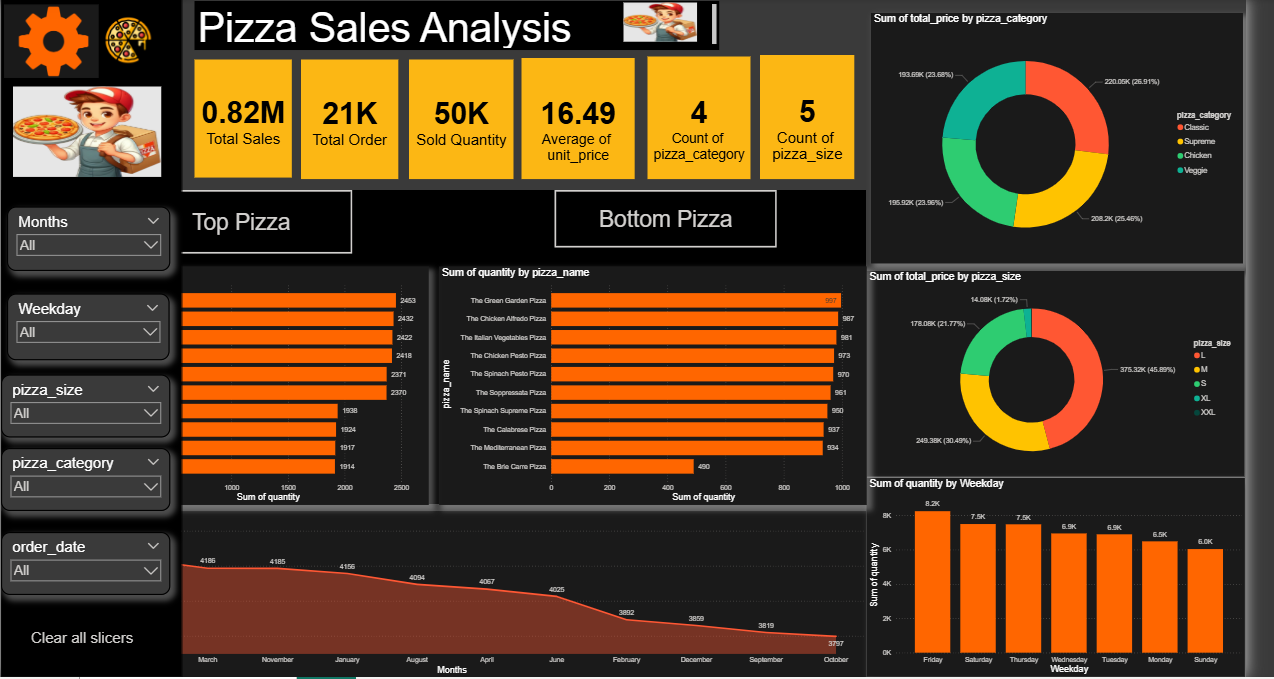

This screenshot's page, from the dashboard's own definition file:
{"tool":"powerbi","page":{"name":"Pizza Sales Analysis ","canvas":[2200,1200],"ordinal":0},"visuals":[{"type":"shape","box":[0,0,320.6,1200],"z":0,"group":"g3"},{"type":"donutChart","fields":{"Category":["pizza_sales.pizza_category"],"Y":["Sum(pizza_sales.total_price)"]},"box":[1538.5,27,657.5,442.7],"z":0,"group":"g1"},{"type":"barChart","fields":{"Category":["pizza_sales.pizza_name"],"Y":["Sum(pizza_sales.quantity)"]},"box":[773.2,473.8,755.9,421.3],"z":0,"group":"g2"},{"type":"areaChart","fields":{"Category":["pizza_sales.Months"],"Y":["CountNonNull(pizza_sales.Weekday)"]},"box":[0,906.6,1529.6,294.3],"z":0},{"type":"group","id":"g1","title":"Group 1","box":[1529.6,27,669,1172.6],"z":1000},{"type":"card","fields":{"Values":["pizza_sales.Total Sales"]},"box":[342,108.6,171.8,208.8],"z":1000,"group":"g4"},{"type":"barChart","fields":{"Category":["pizza_sales.pizza_name"],"Y":["Sum(pizza_sales.quantity)"]},"box":[0,473.8,755.9,421.3],"z":1000,"group":"g2"},{"type":"donutChart","fields":{"Y":["Sum(pizza_sales.total_price)"],"Category":["pizza_sales.pizza_size"]},"box":[1530.6,483,668.1,363.2],"z":1000,"group":"g1"},{"type":"actionButton","box":[3.2,1089.9,281.3,83.1],"z":1000,"group":"g3"},{"type":"group","id":"g2","title":"Group 4","box":[0,339.3,1529.6,554.1],"z":2000},{"type":"actionButton","box":[228.3,339.3,392.9,112.5],"z":2000,"group":"g2"},{"type":"slicer","fields":{"Values":["pizza_sales.Months"]},"box":[10.6,368.5,289,114],"z":2000,"group":"g3"},{"type":"columnChart","fields":{"Category":["pizza_sales.Weekday"],"Y":["Sum(pizza_sales.quantity)"]},"box":[1529.6,848.3,668.5,351.4],"z":2000,"group":"g1"},{"type":"image","title":"show","box":[0,3.2,177.7,151.9],"z":3000},{"type":"card","fields":{"Values":["pizza_sales.Total Order"]},"box":[529.5,108.6,171.8,211.4],"z":3000,"group":"g4"},{"type":"actionButton","box":[978.6,339.3,392.9,101.7],"z":3000,"group":"g2"},{"type":"slicer","fields":{"Values":["pizza_sales.order_date"]},"box":[0,943.8,299.6,111.3],"z":3000,"group":"g3"},{"type":"group","id":"g3","title":"Group 5","box":[0,0,320.6,1200],"z":4000},{"type":"card","fields":{"Values":["Avg(pizza_sales.unit_price)"]},"box":[920.5,106.7,199.8,214.1],"z":4000,"group":"g4"},{"type":"slicer","fields":{"Values":["pizza_sales.pizza_category"]},"box":[0,795.3,299.6,111.3],"z":4000,"group":"g3"},{"type":"actionButton","box":[159.9,0,131.5,149.3],"z":5000},{"type":"card","fields":{"Values":["pizza_sales.Sold Quantity"]},"box":[720.6,109.3,184.8,211.4],"z":5000,"group":"g4"},{"type":"slicer","fields":{"Values":["pizza_sales.pizza_size"]},"box":[0,665.4,299.6,111.3],"z":5000,"group":"g3"},{"type":"actionButton","box":[22.4,156.6,262.1,159.8],"z":5500,"group":"g3"},{"type":"textbox","box":[342.4,4.3,927.4,86.7],"z":6000},{"type":"slicer","fields":{"Values":["pizza_sales.Weekday"]},"box":[9.6,521,287.7,118.3],"z":6000,"group":"g3"},{"type":"image","title":"Hide","box":[0,0,177.6,152.2],"z":7000,"group":"g3"},{"type":"actionButton","box":[1100.7,8.7,130,69.3],"z":7000},{"type":"card","fields":{"Values":["Count(pizza_sales.pizza_category)"]},"box":[1141.3,103.3,182.3,216.7],"z":7000,"group":"g4"},{"type":"group","id":"g4","title":"Group 2","box":[342,100.7,1166.4,220],"z":8000},{"type":"card","fields":{"Values":["Count(pizza_sales.pizza_size)"]},"box":[1341.8,100.7,166.6,219.3],"z":9000,"group":"g4"}]}

Visuals, with their boxes in screenshot pixels (x1, y1, x2, y2), scaled from the page's 2200x1200 canvas onto the 1274x679 screenshot:
shape: 0:0:186:678
donutChart - pizza_sales.pizza_category x Sum(pizza_sales.total_price): 891:15:1272:266
barChart - pizza_sales.pizza_name x Sum(pizza_sales.quantity): 448:268:885:506
areaChart - pizza_sales.Months x CountNonNull(pizza_sales.Weekday): 0:513:886:678
"Group 1" group: 886:15:1273:678
card - pizza_sales.Total Sales: 198:61:298:180
barChart - pizza_sales.pizza_name x Sum(pizza_sales.quantity): 0:268:438:506
donutChart - Sum(pizza_sales.total_price) x pizza_sales.pizza_size: 886:273:1273:479
actionButton: 2:617:165:664
"Group 4" group: 0:192:886:506
actionButton: 132:192:360:256
slicer - pizza_sales.Months: 6:209:173:273
columnChart - pizza_sales.Weekday x Sum(pizza_sales.quantity): 886:480:1273:678
"show" image: 0:2:103:88
card - pizza_sales.Total Order: 307:61:406:181
actionButton: 567:192:794:250
slicer - pizza_sales.order_date: 0:534:173:597
"Group 5" group: 0:0:186:678
card - Avg(pizza_sales.unit_price): 533:60:649:182
slicer - pizza_sales.pizza_category: 0:450:173:513
actionButton: 93:0:169:84
card - pizza_sales.Sold Quantity: 417:62:524:181
slicer - pizza_sales.pizza_size: 0:377:173:439
actionButton: 13:89:165:179
textbox: 198:2:735:51
slicer - pizza_sales.Weekday: 6:295:172:362
"Hide" image: 0:0:103:86
actionButton: 637:5:713:44
card - Count(pizza_sales.pizza_category): 661:58:766:181
"Group 2" group: 198:57:874:181
card - Count(pizza_sales.pizza_size): 777:57:874:181
